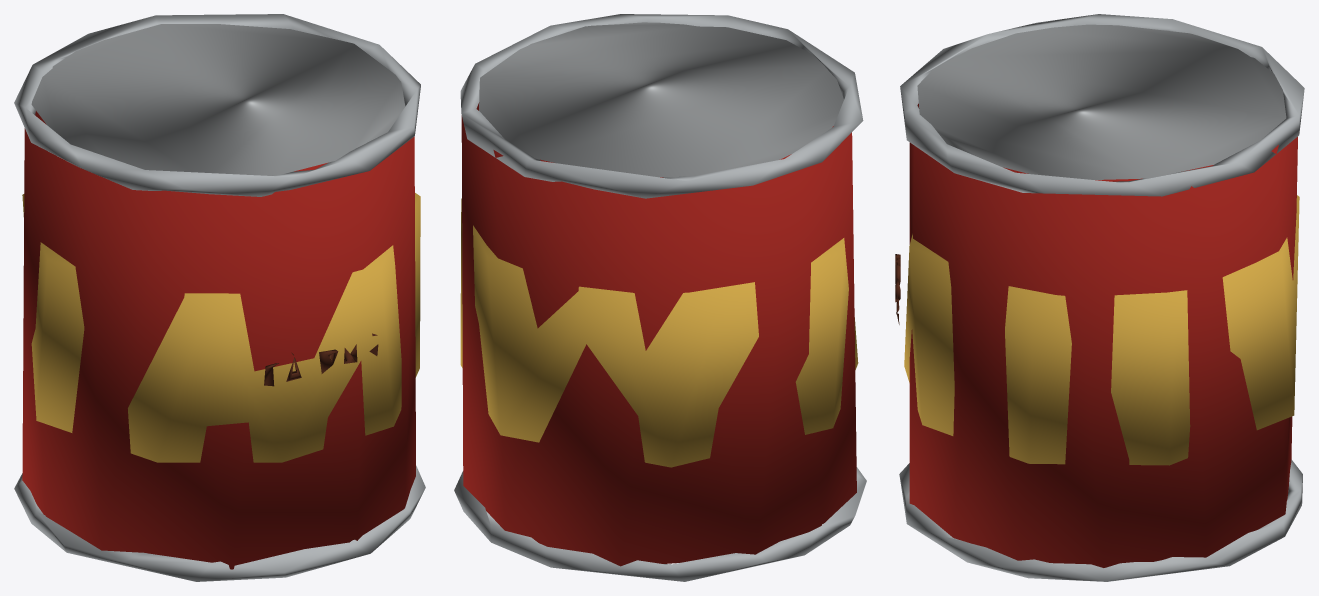
The model's file is lon_4_caphe.glb.
The picture shows the model from 3 angles, left to right: view 1: azimuth 30°, elevation 25°; view 2: azimuth 150°, elevation 25°; view 3: azimuth 270°, elevation 25°; orthographic projection.
Visible parts, largest first — view 1: lon_4_caphe; view 2: lon_4_caphe; view 3: lon_4_caphe.
Part boxes in pixels (x1,y1,x2,y2): lon_4_caphe: [14, 14, 425, 581]; lon_4_caphe: [454, 14, 866, 581]; lon_4_caphe: [895, 14, 1304, 581].
Bounding box in the file's own units: 0.158 × 0.1711 × 0.1565.
